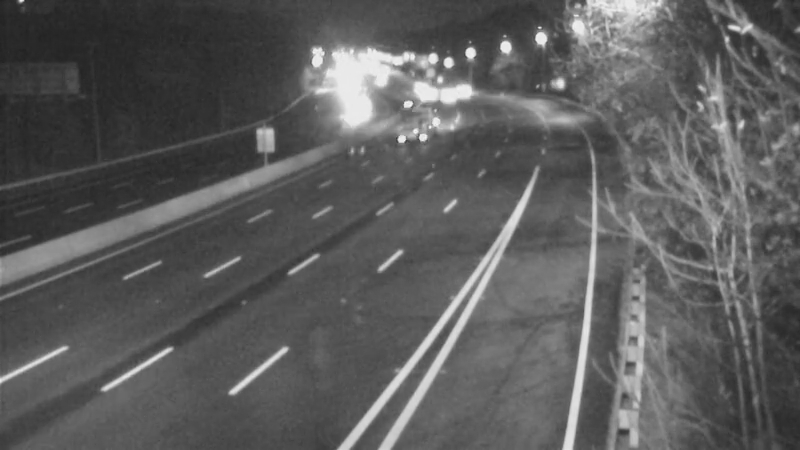vehicle: (416, 64, 466, 114), (402, 68, 452, 118), (442, 68, 492, 118), (390, 91, 440, 141), (328, 90, 378, 140)
